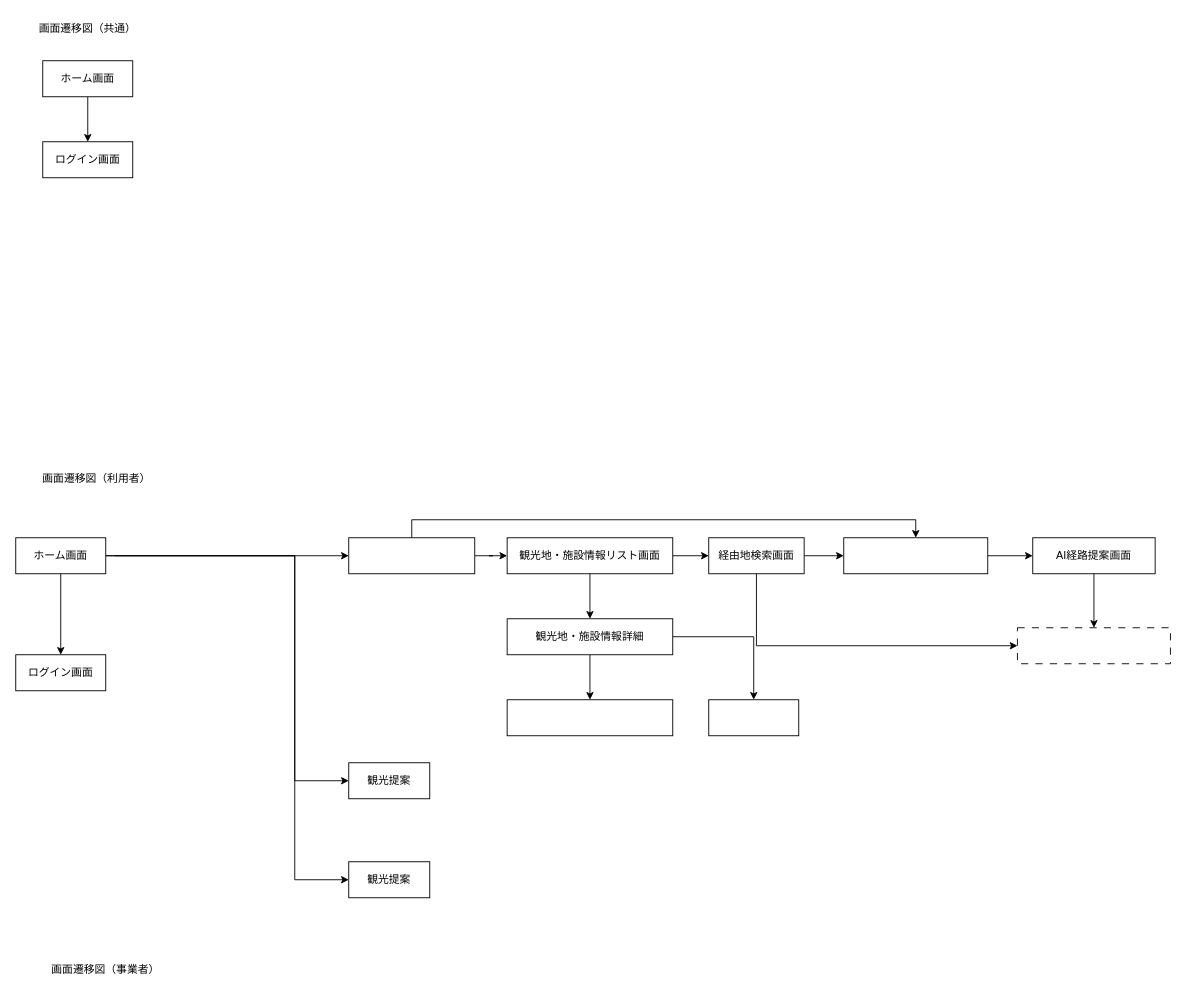
Image size: 1186x998. Some labels were removed from this diagram. Here are the shapes that lost their labels. From the top down, the box of each, then its label:
(348, 537, 475, 574): 観光地・施設検索画面
(843, 537, 988, 574): 観光経路チャット要求
(1017, 627, 1170, 664): Googleマップの地図画面
(506, 699, 673, 736): 評価・口コミ・写真投稿画面
(708, 699, 799, 736): お得情報
